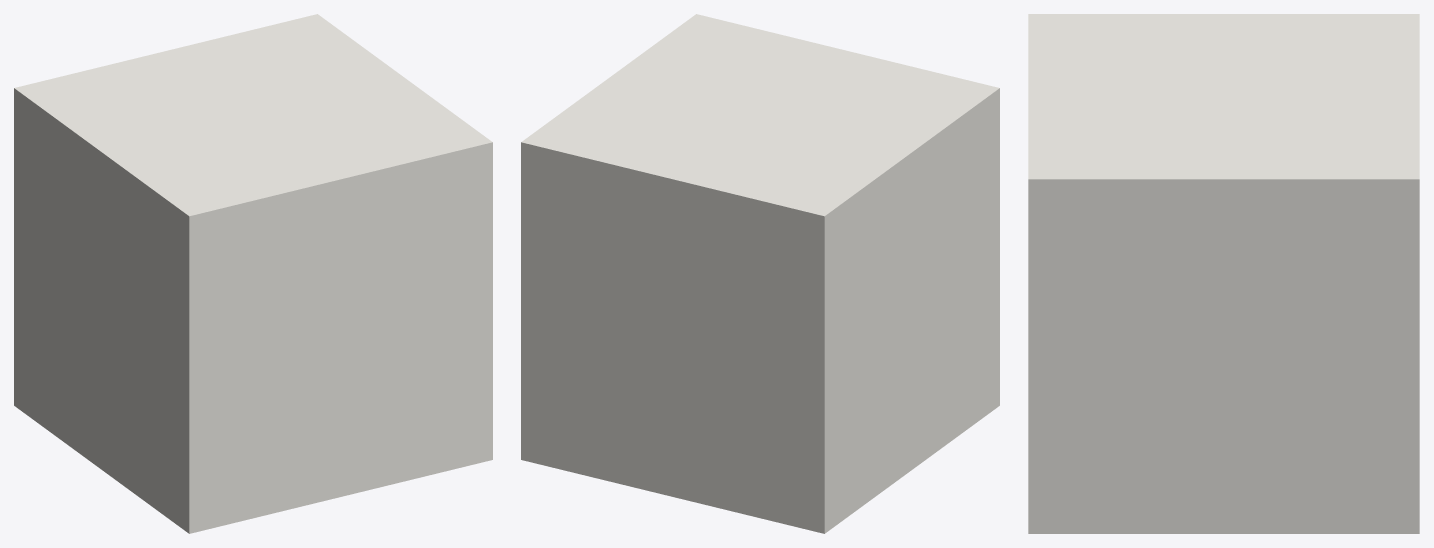
Rendered from bandage.glb.
3 views of the same model, side by side, from view 1: azimuth 30°, elevation 25°; view 2: azimuth 150°, elevation 25°; view 3: azimuth 270°, elevation 25° (orthographic). The views are drawn at different scales.
Visible parts, largest first — view 1: bandage; view 2: bandage; view 3: bandage.
Boxes of the visible parts, <box> form: bandage: <box>14,14,492,533</box>; bandage: <box>521,14,999,533</box>; bandage: <box>1028,14,1419,533</box>.
Size of the model in its own units: 0.15 by 0.15 by 0.15.
1 material, 1 textured.
